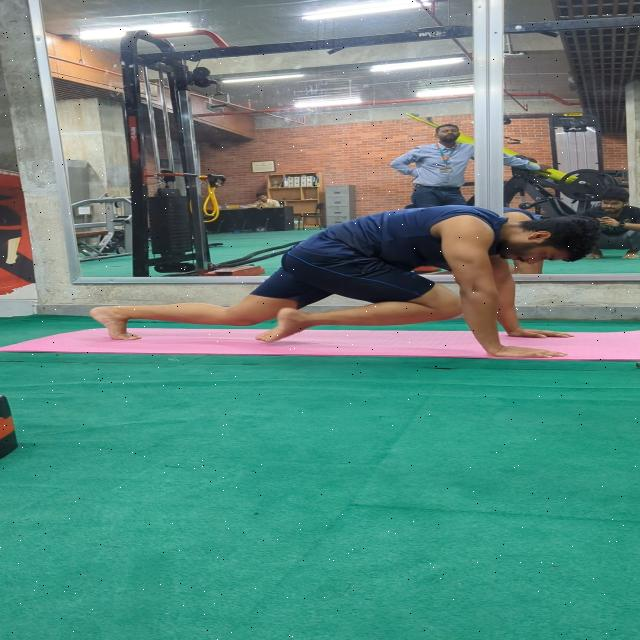Normal_MountainClimbers: (83, 191, 606, 362)
